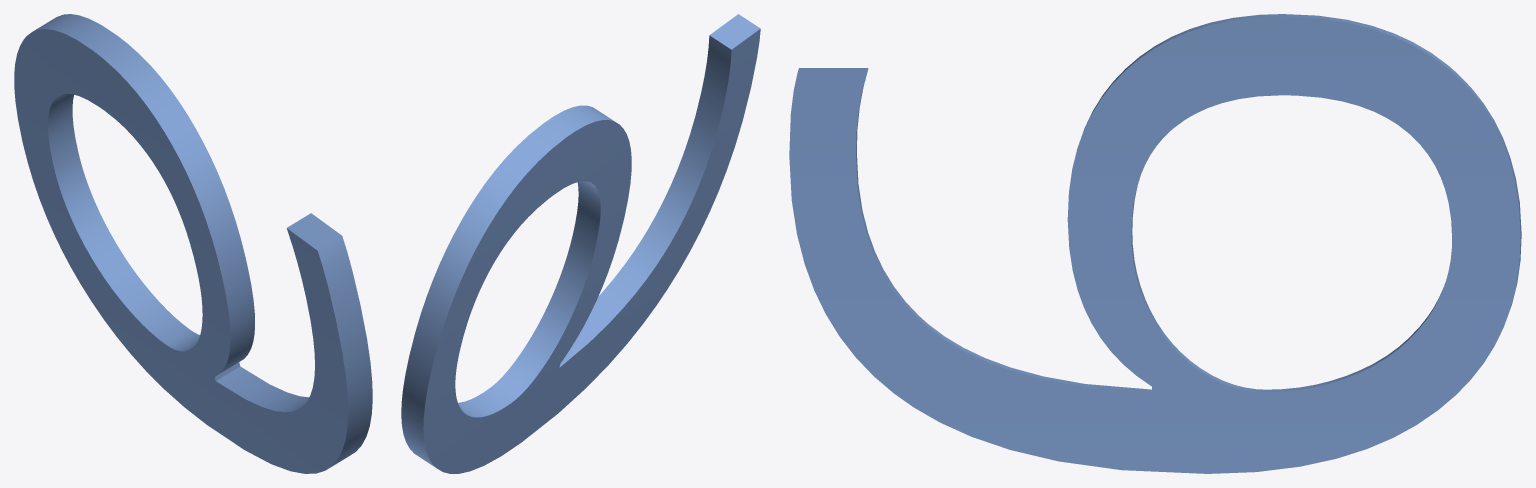
File: New_Number_6.gltf
3 views of the same model, side by side, from view 1: azimuth 30°, elevation 25°; view 2: azimuth 150°, elevation 25°; view 3: azimuth 270°, elevation 25° (orthographic). The views are drawn at different scales.
Parts seen in each view (by area): view 1: Part 303; view 2: Part 303; view 3: Part 303.
Part boxes in pixels (<box>): Part 303: <box>14,14,372,473</box>; Part 303: <box>401,14,760,473</box>; Part 303: <box>789,14,1521,473</box>.
Size of the model in its own units: 0.00105 by 0.00361 by 0.00566.
